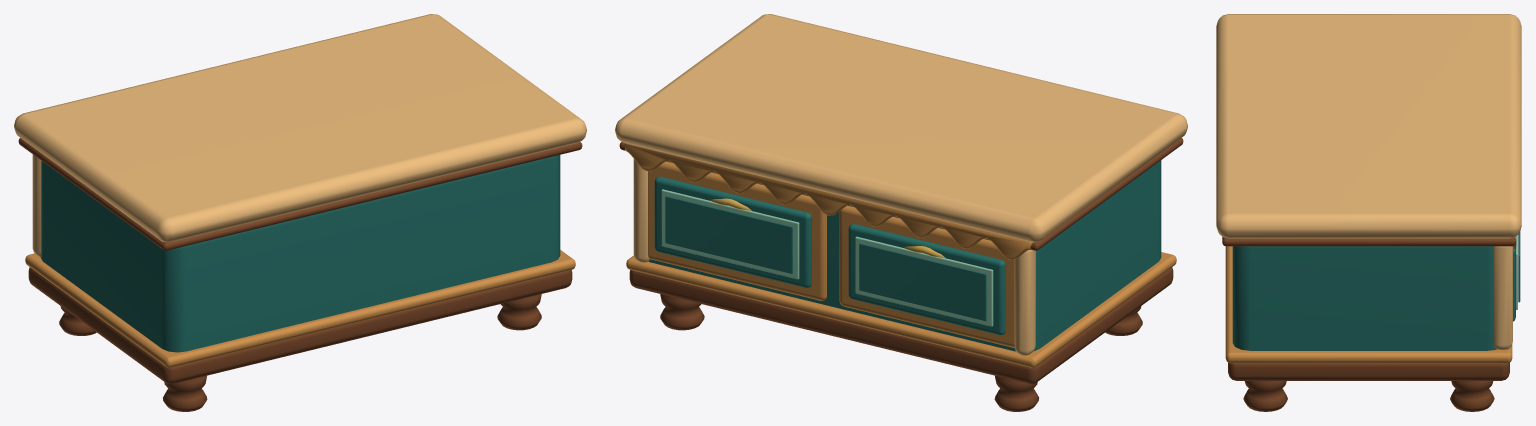
File: DisplayCabinet.fbx
3 views of the same model, side by side, from view 1: azimuth 30°, elevation 25°; view 2: azimuth 150°, elevation 25°; view 3: azimuth 270°, elevation 25° (orthographic).
Parts seen in each view (by area): view 1: DisplayCabinet_Visual; view 2: DisplayCabinet_Visual; view 3: DisplayCabinet_Visual.
Part boxes in pixels (x1=…): DisplayCabinet_Visual: x1=14, y1=14, x2=586, y2=411; DisplayCabinet_Visual: x1=615, y1=14, x2=1187, y2=411; DisplayCabinet_Visual: x1=1216, y1=14, x2=1521, y2=411.
Bounding box in the file's own units: 2.1 × 0.98 × 1.3.
